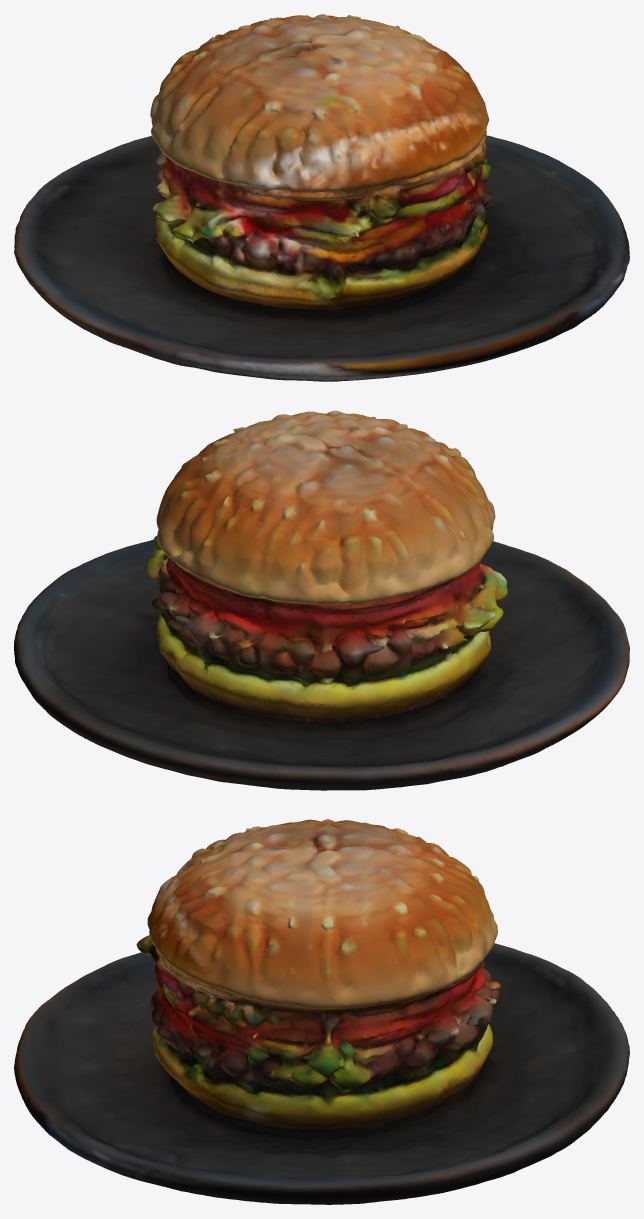
File: object-hamburger.glb
3 renders of one model, top to bottom at view 1: azimuth 30°, elevation 25°; view 2: azimuth 150°, elevation 25°; view 3: azimuth 270°, elevation 25°, orthographic. The views are drawn at different scales.
Visible parts, largest first — view 1: Modelado; view 2: Modelado; view 3: Modelado.
Part boxes in pixels (x1,y1,x2,y2): Modelado: (14, 14, 629, 381); Modelado: (14, 410, 629, 790); Modelado: (14, 819, 629, 1204).
Bounding box in the file's own units: 0.9238 × 0.4115 × 0.905.
